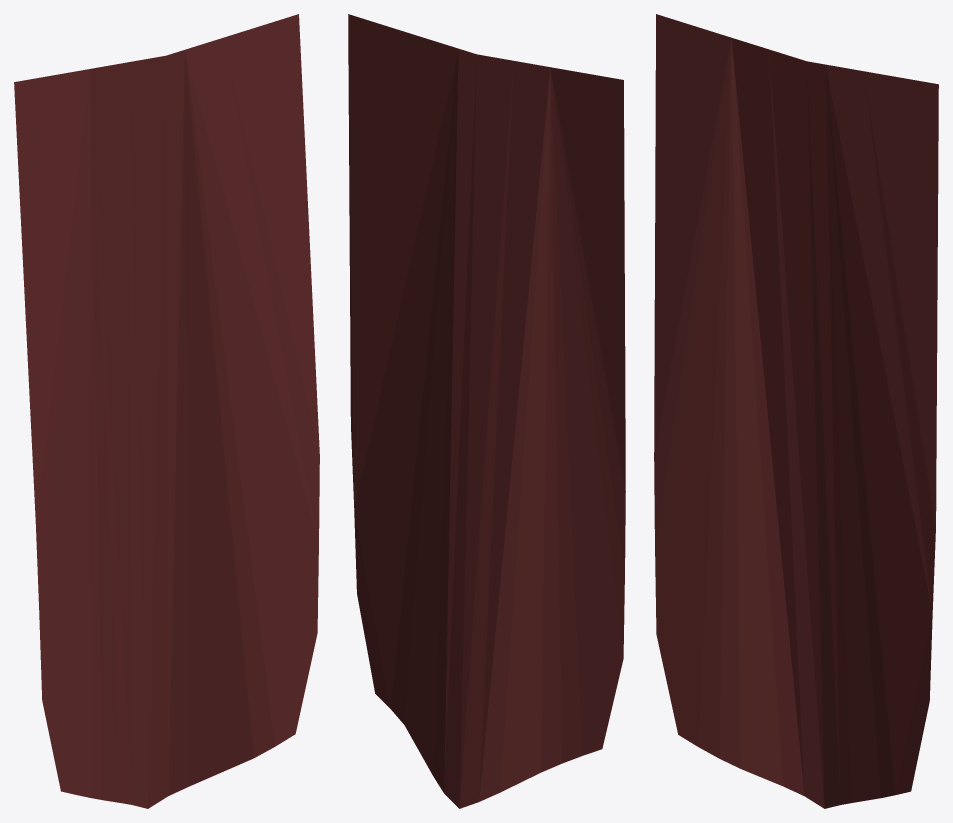
The model's file is red-banner.lod2.glb.
The picture shows the model from 3 angles, left to right: view 1: azimuth 30°, elevation 25°; view 2: azimuth 150°, elevation 25°; view 3: azimuth 330°, elevation 25°; orthographic projection. The views are drawn at different scales.
Visible parts, largest first — view 1: Wooden holder_Wood_Mat_0; view 2: Wooden holder_Wood_Mat_0; view 3: Wooden holder_Wood_Mat_0.
Part boxes in pixels (box(x1,y1,x2,y2)): Wooden holder_Wood_Mat_0: box(14, 14, 319, 808); Wooden holder_Wood_Mat_0: box(348, 14, 625, 808); Wooden holder_Wood_Mat_0: box(654, 14, 938, 808).
Size of the model in its own units: 0.8705 by 2.2 by 0.1632.
